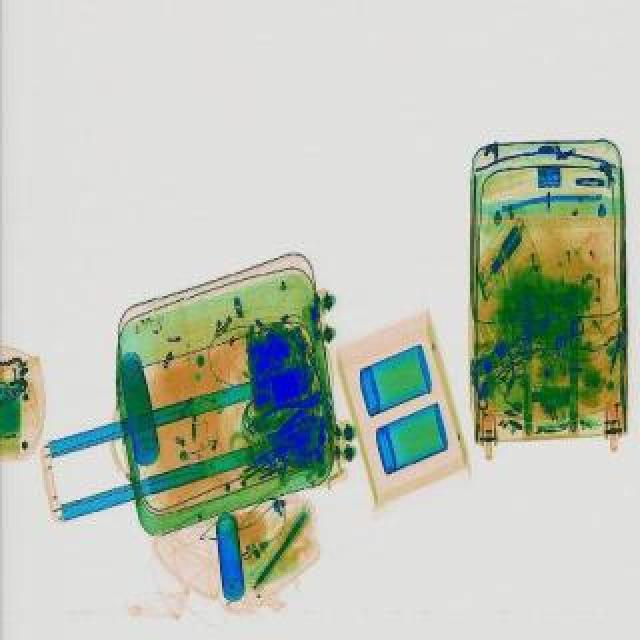wrench: (254, 384, 330, 442)
